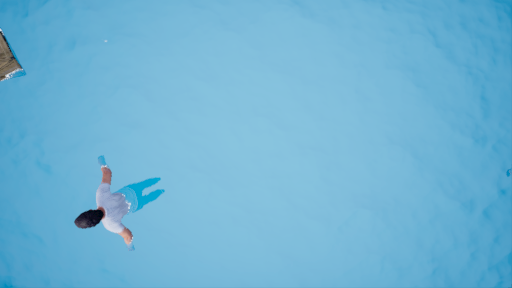person: (70, 160, 172, 246)
